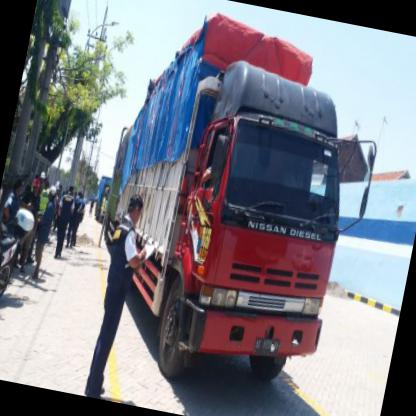truck: (154, 81, 363, 402)
